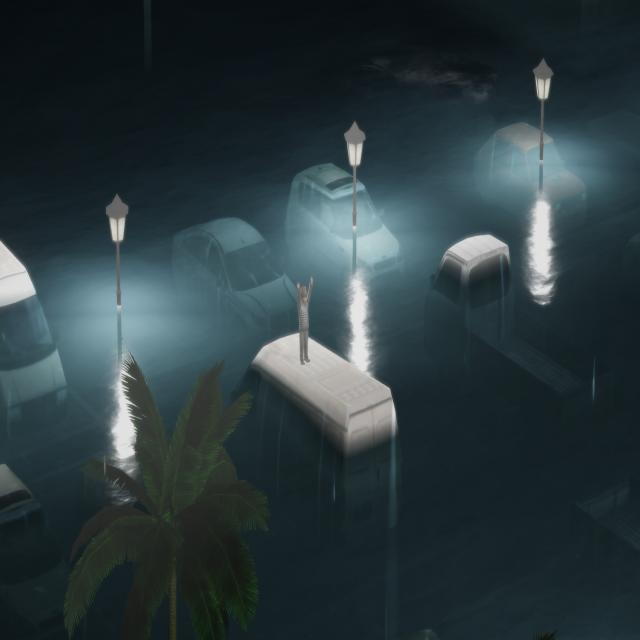Human: (294, 268, 317, 373)
